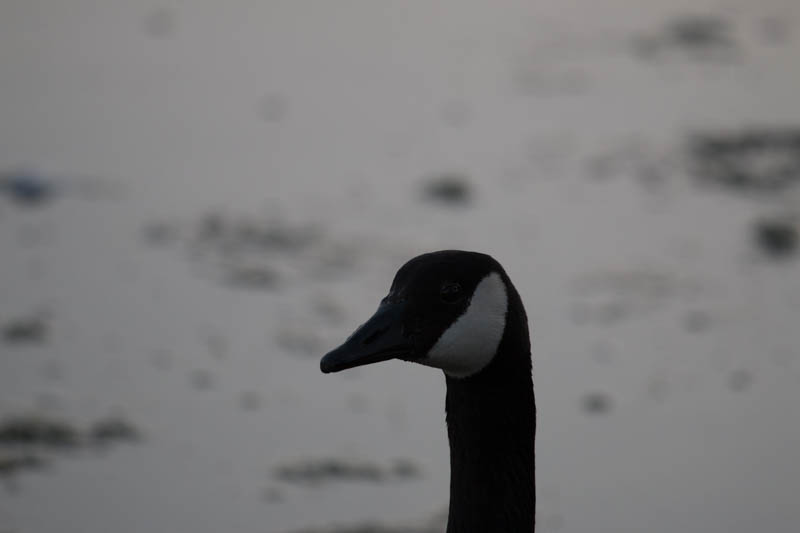goose-head: (319, 249, 533, 379)
